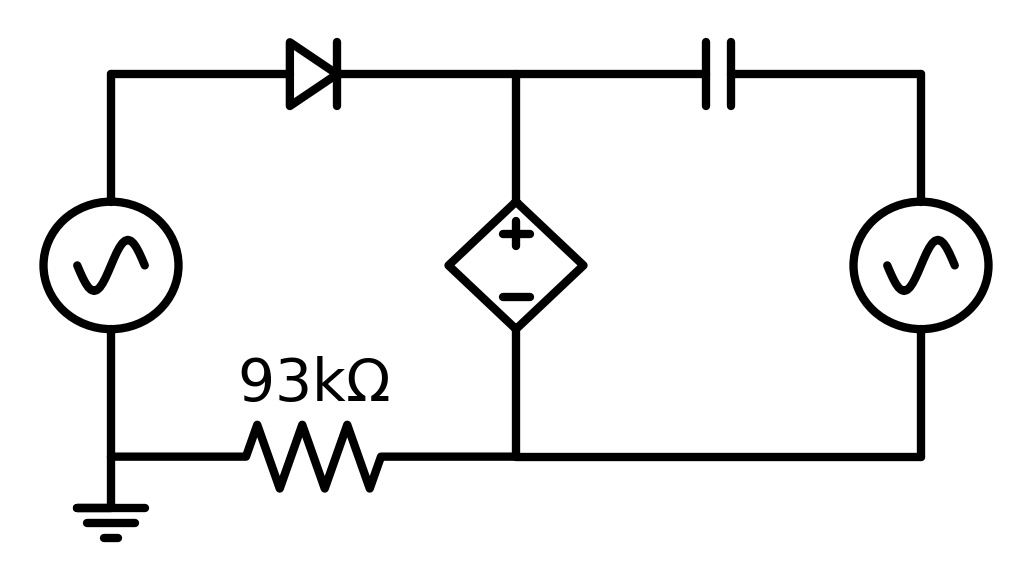capacitor: (672, 28, 772, 121)
diode: (271, 26, 366, 144)
ground: (59, 490, 166, 553)
resistor: (227, 410, 390, 501)
sourceac: (839, 187, 1009, 347), (31, 197, 190, 349)
sourcevc: (427, 189, 611, 344)
